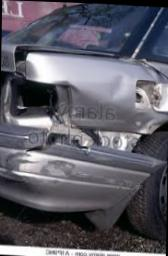Bumper: (0, 115, 165, 210)
Dickey: (1, 41, 123, 71)
Fender: (27, 52, 168, 134)
Light: (7, 75, 70, 119)
